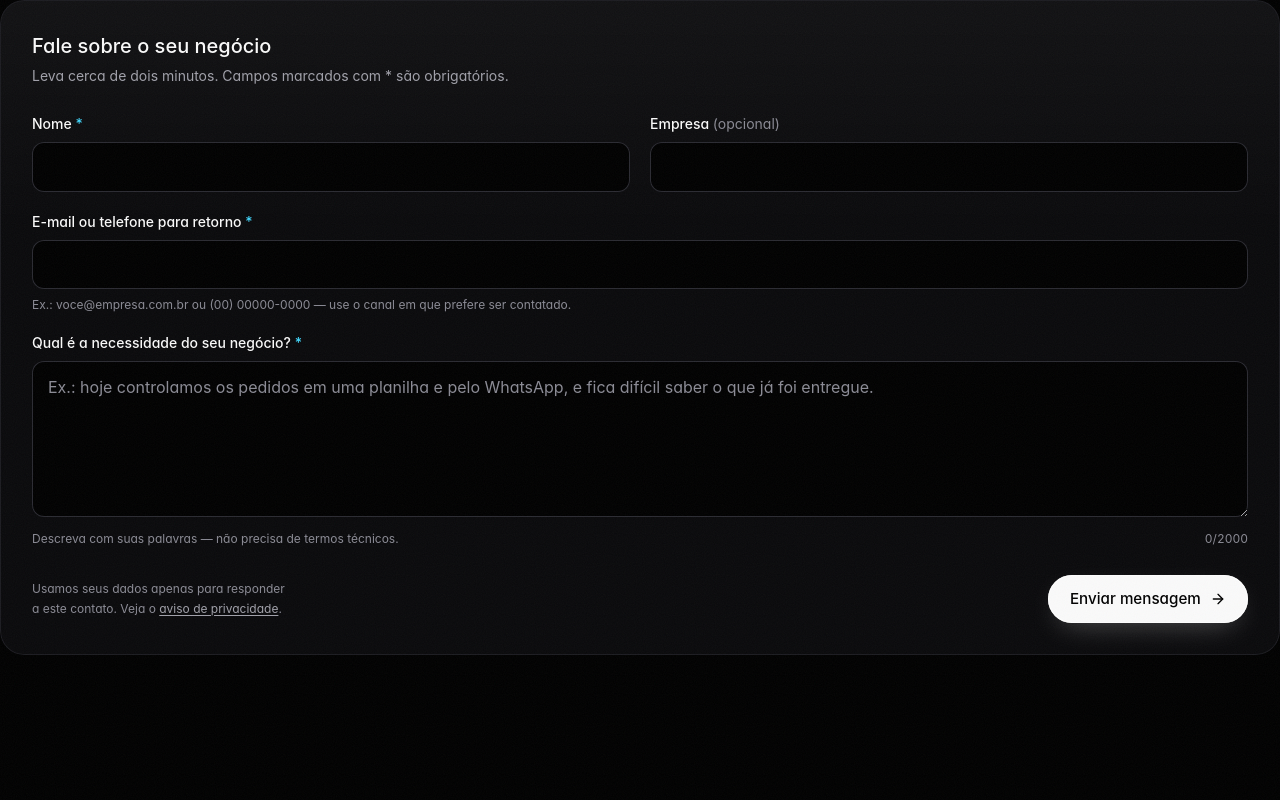
Test: ContactForm › mostra erros acessíveis e foca o primeiro campo inválido
Click the button "Enviar mensagem" at (1148, 599), box [1048,575,1248,623]
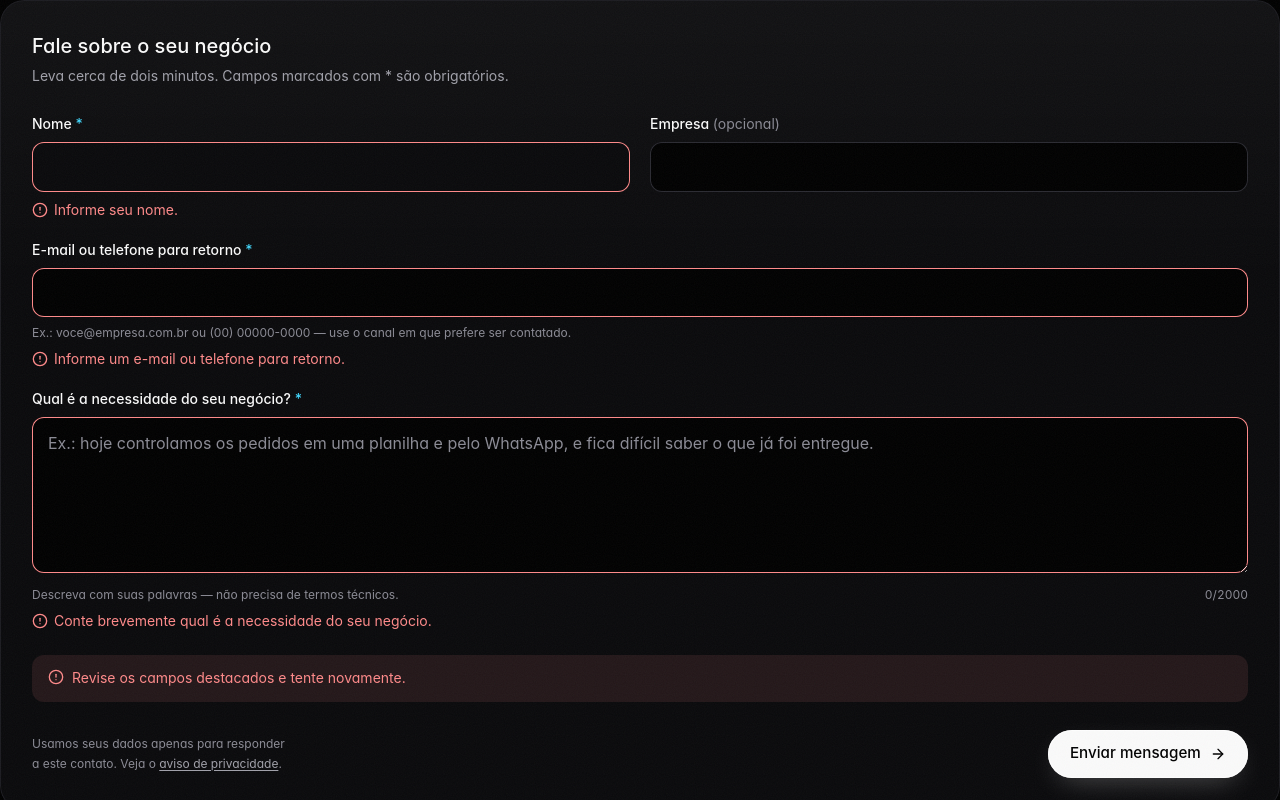
Now the message shows "Revise os campos", box [72,669,406,686]
